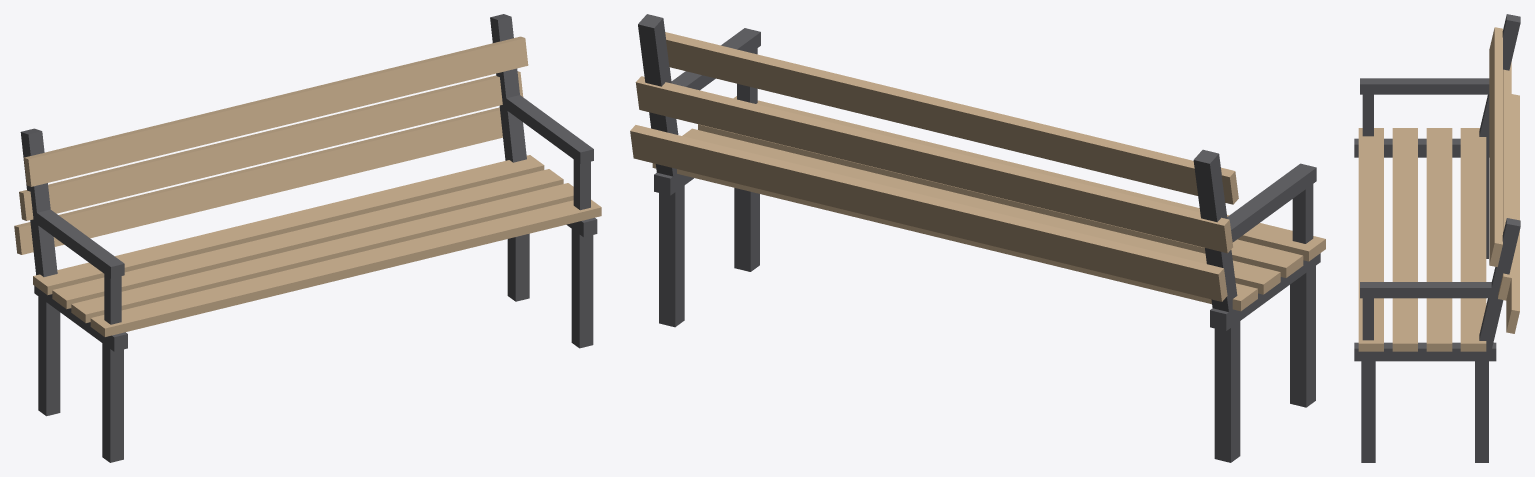
Rendered from bench_wood.glb.
3 views of the same model, side by side, from view 1: azimuth 30°, elevation 25°; view 2: azimuth 150°, elevation 25°; view 3: azimuth 270°, elevation 25° (orthographic). The views are drawn at different scales.
Parts seen in each view (by area): view 1: bench_wood; view 2: bench_wood; view 3: bench_wood.
Part boxes in pixels (bbox=[...]): bench_wood: bbox=[14, 14, 601, 462]; bench_wood: bbox=[630, 14, 1325, 462]; bench_wood: bbox=[1354, 14, 1520, 462].
Bounding box in the file's own units: 1.8 × 0.9297 × 0.5864.
